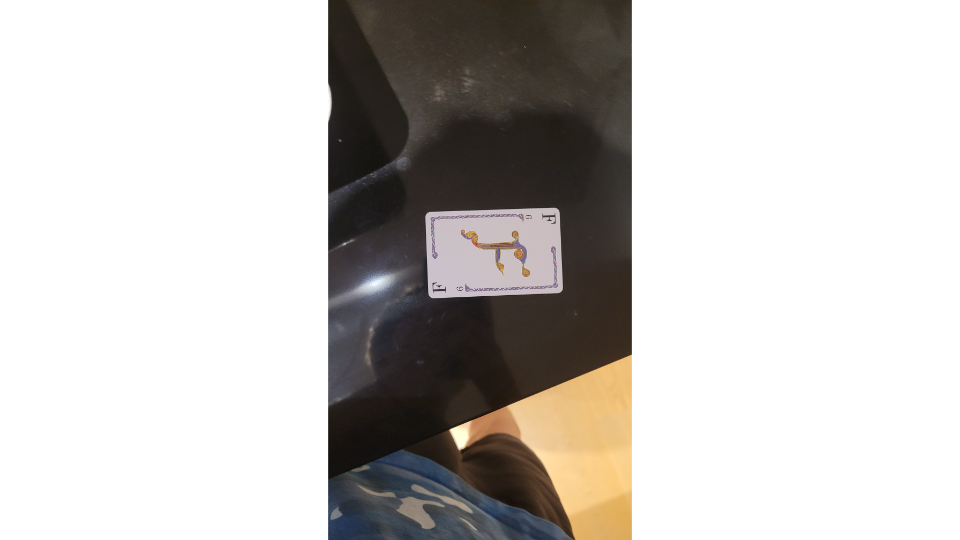F: (421, 205, 570, 302)
